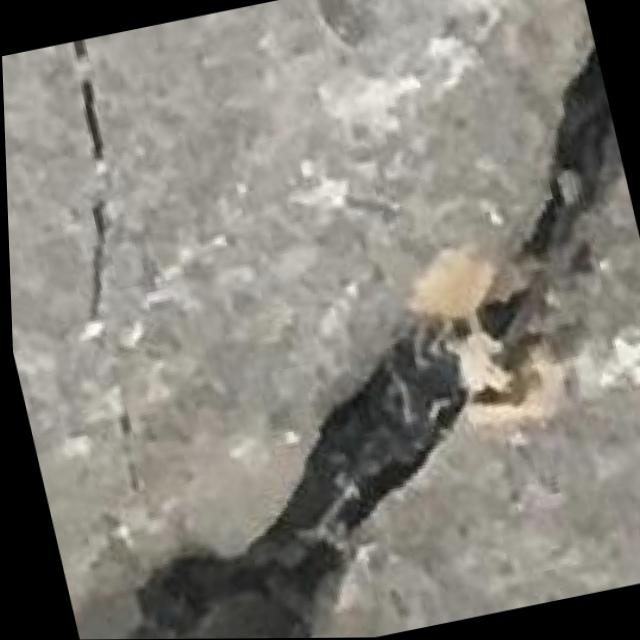Crack: (1, 41, 640, 640), (1, 38, 169, 351)
